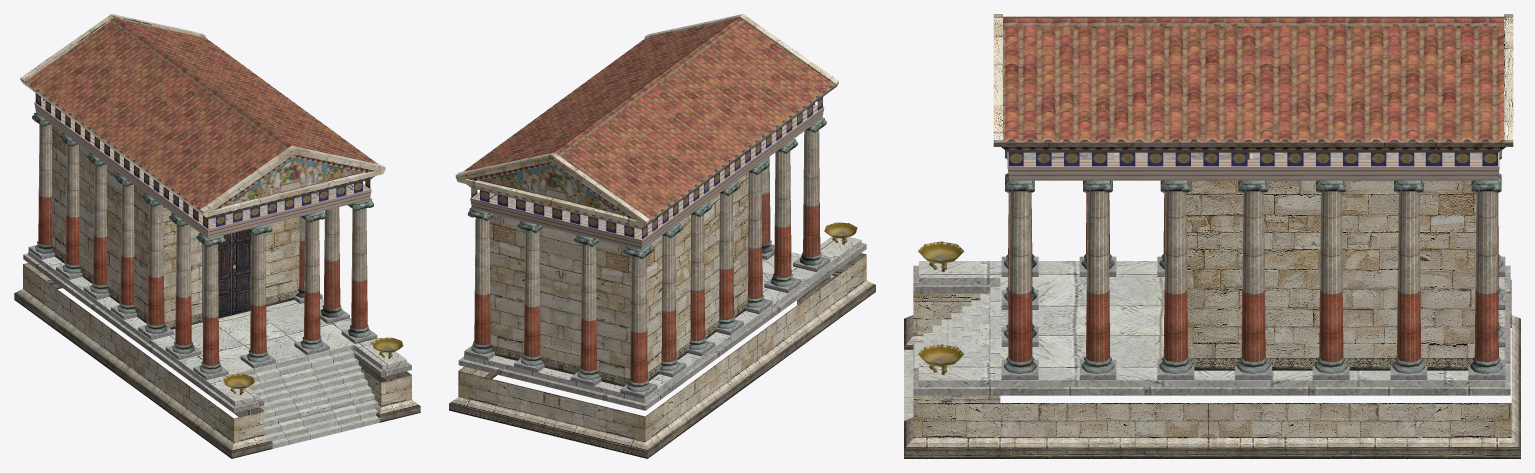
The model's file is rome_hc1.dae.
The picture shows the model from 3 angles, left to right: view 1: azimuth 30°, elevation 25°; view 2: azimuth 150°, elevation 25°; view 3: azimuth 270°, elevation 25°; orthographic projection. The views are drawn at different scales.
Visible parts, largest first — view 1: rome_hc; view 2: rome_hc; view 3: rome_hc.
Boxes of the visible parts, x1,y1,x2,y2 form: rome_hc: (14, 14, 420, 458); rome_hc: (449, 14, 875, 458); rome_hc: (904, 14, 1520, 458).
Bounding box in the file's own units: 14.17 × 28.23 × 18.96.
